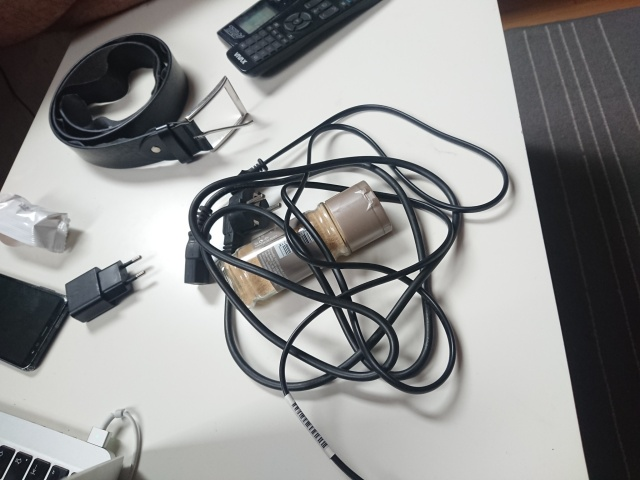Kotanyi Garlic Granules 70g: (211, 178, 396, 309)
